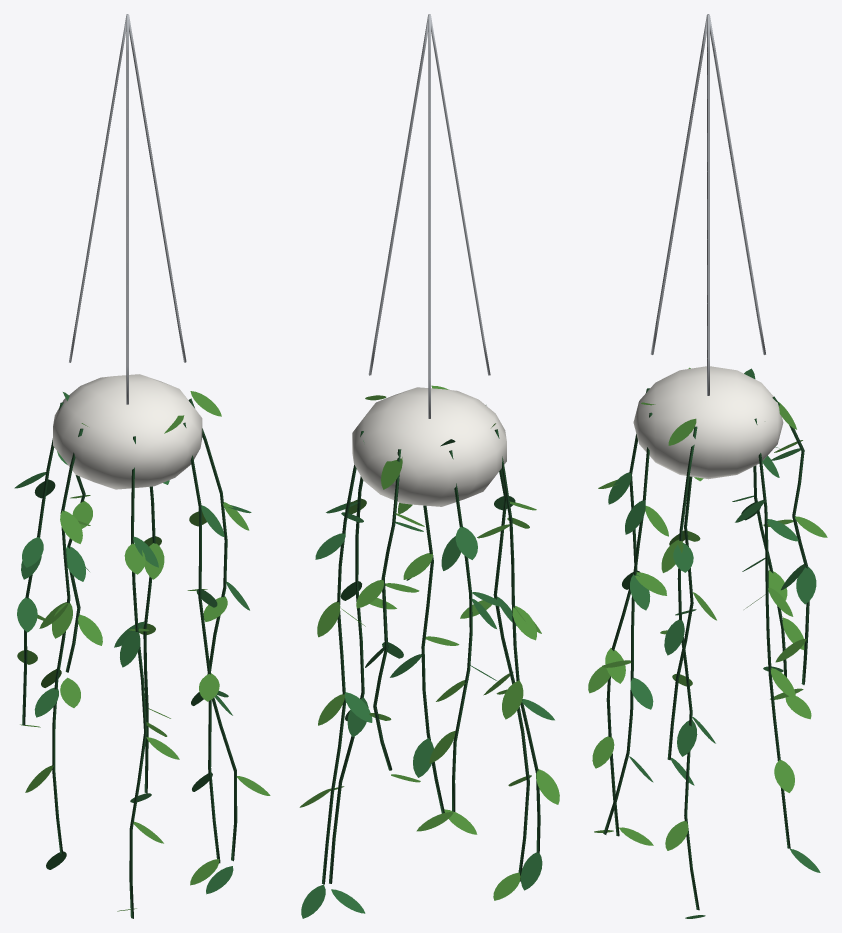
The model's file is Deco_Plant_Trailing.gltf.
3 views of the same model, side by side, from view 1: azimuth 30°, elevation 25°; view 2: azimuth 150°, elevation 25°; view 3: azimuth 270°, elevation 25° (orthographic). The views are drawn at different scales.
Parts seen in each view (by area): view 1: Deco_Plant_Trailing; view 2: Deco_Plant_Trailing; view 3: Deco_Plant_Trailing.
Boxes of the visible parts, bbox=[...] form: Deco_Plant_Trailing: bbox=[14, 14, 270, 918]; Deco_Plant_Trailing: bbox=[299, 14, 559, 918]; Deco_Plant_Trailing: bbox=[588, 14, 827, 918].
Size of the model in its own units: 0.532 by 1.92 by 0.4793.
